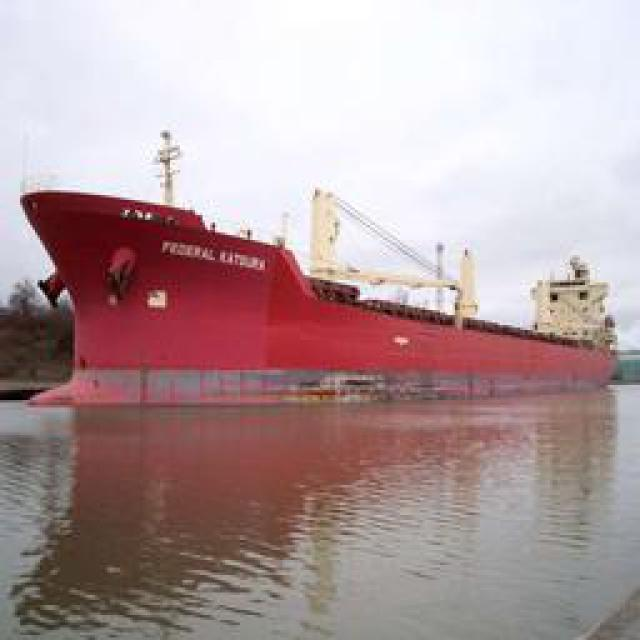Ship: (25, 182, 608, 405)
